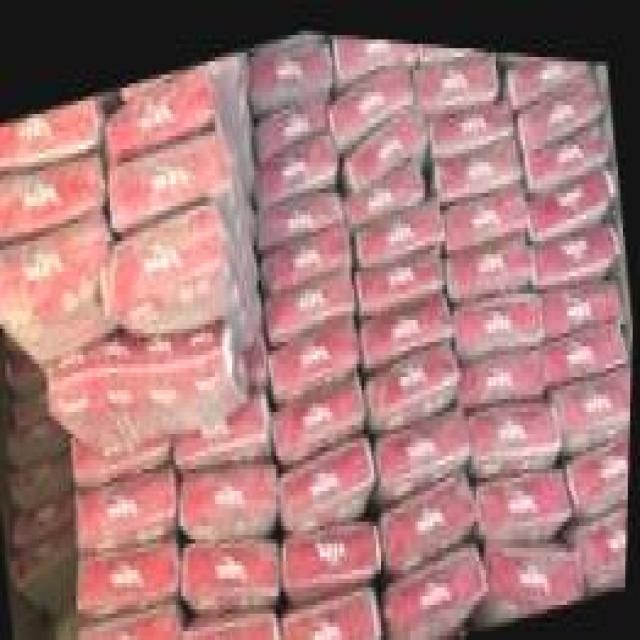gunny_bag: (48, 315, 253, 453), (116, 195, 265, 349), (0, 206, 116, 356), (111, 110, 233, 218), (109, 57, 213, 154), (82, 519, 188, 614), (377, 390, 477, 482), (369, 325, 468, 415), (82, 461, 179, 551), (390, 456, 479, 551), (399, 535, 487, 628), (0, 149, 101, 229), (280, 360, 370, 449), (188, 447, 276, 535), (273, 307, 361, 395), (460, 259, 547, 348), (283, 429, 374, 513), (526, 96, 611, 185), (329, 51, 413, 140), (364, 282, 453, 363), (284, 509, 377, 586), (266, 257, 357, 334), (545, 294, 634, 372), (350, 88, 427, 178), (530, 199, 623, 273), (257, 116, 338, 200), (356, 221, 440, 299), (482, 453, 570, 525), (452, 214, 532, 293), (265, 211, 350, 285), (187, 529, 278, 598), (289, 573, 381, 640), (358, 185, 445, 252), (445, 168, 531, 235), (439, 120, 519, 190), (415, 40, 501, 101), (562, 354, 633, 426), (83, 591, 183, 640), (498, 533, 581, 592), (250, 40, 334, 97), (574, 412, 632, 492), (431, 83, 512, 138), (514, 44, 591, 95), (335, 28, 416, 72), (188, 603, 283, 640), (587, 489, 630, 566)
